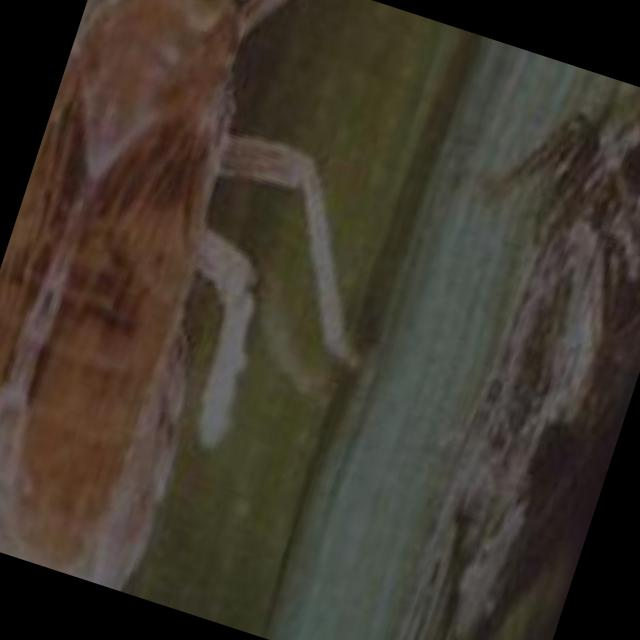brown-planthopper: (0, 0, 337, 598), (376, 66, 640, 640)
